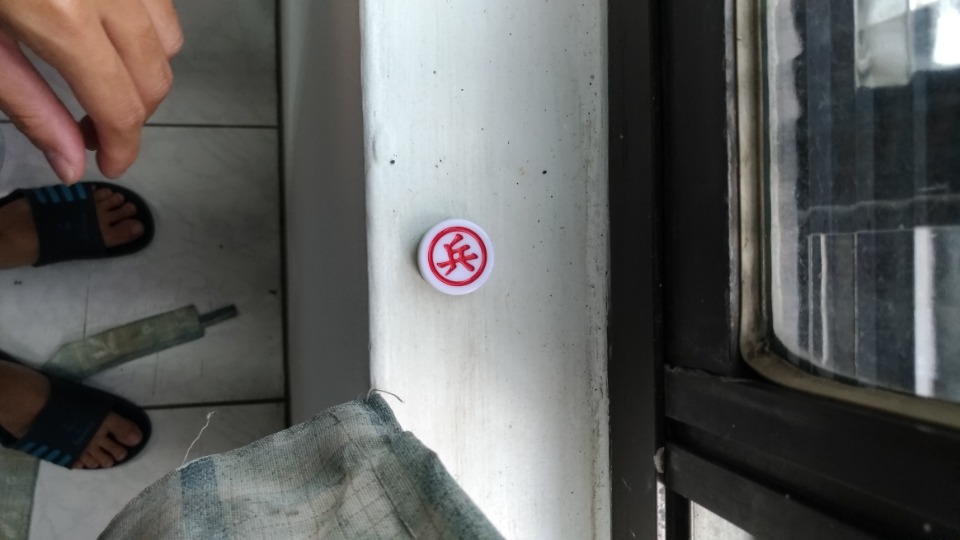r-pawn: (412, 212, 505, 306)
